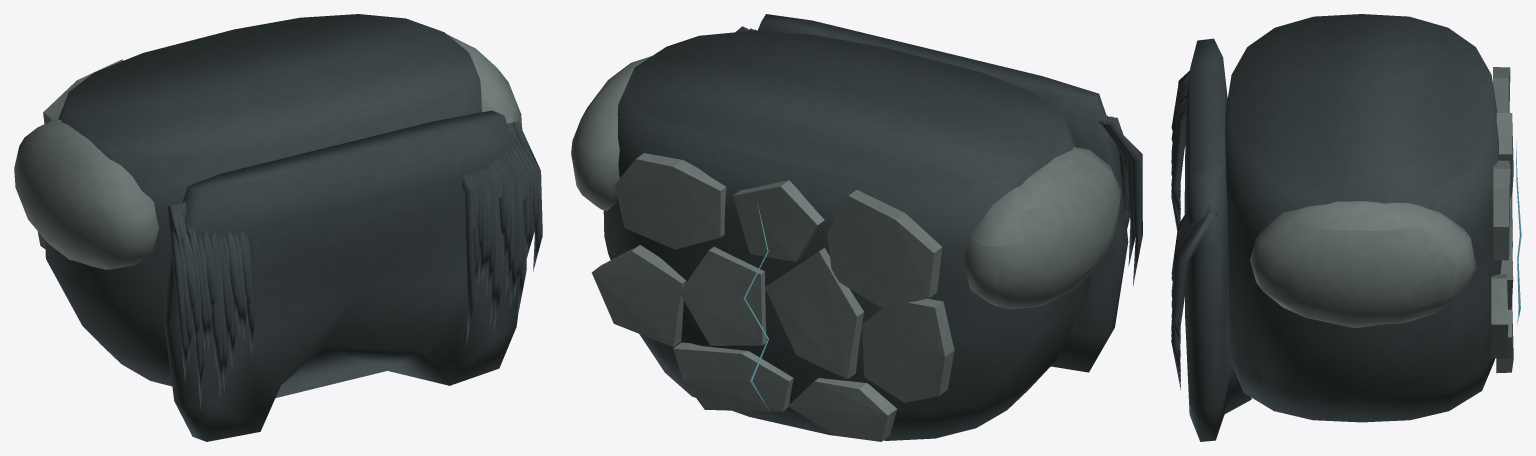
File: chest_lod1.glb
3 renders of one model, left to right at view 1: azimuth 30°, elevation 25°; view 2: azimuth 150°, elevation 25°; view 3: azimuth 270°, elevation 25°, orthographic. The views are drawn at different scales.
Visible parts, largest first — view 1: dormin_chest_LOD1; view 2: dormin_chest_LOD1; view 3: dormin_chest_LOD1.
Boxes of the visible parts, x1=… form: dormin_chest_LOD1: x1=14, y1=14, x2=542, y2=441; dormin_chest_LOD1: x1=571, y1=14, x2=1142, y2=441; dormin_chest_LOD1: x1=1171, y1=14, x2=1521, y2=441.
Bounding box in the file's own units: 5.48 × 2.99 × 3.61.
Materials: 3 (2 with a texture image).
